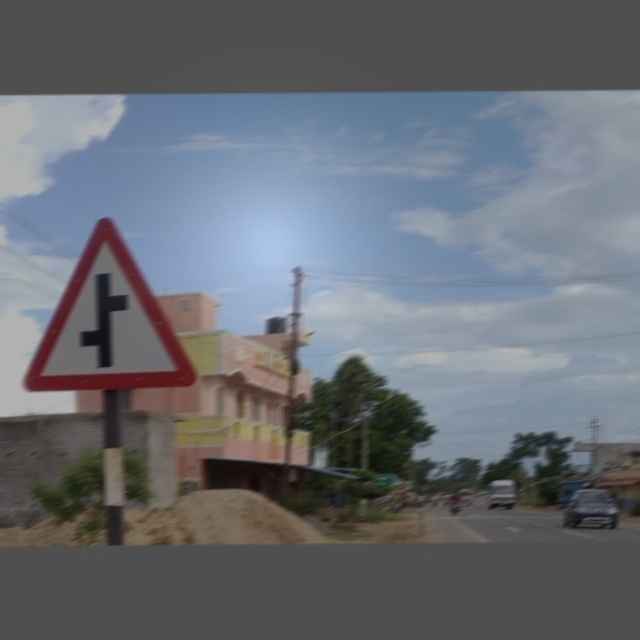Staggered_Intersection: (25, 209, 207, 393)
